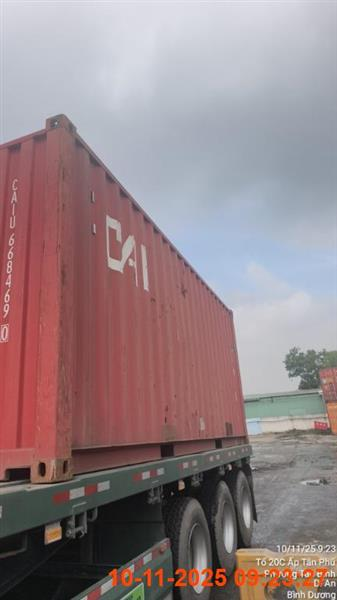hole: (0, 114, 259, 599)
